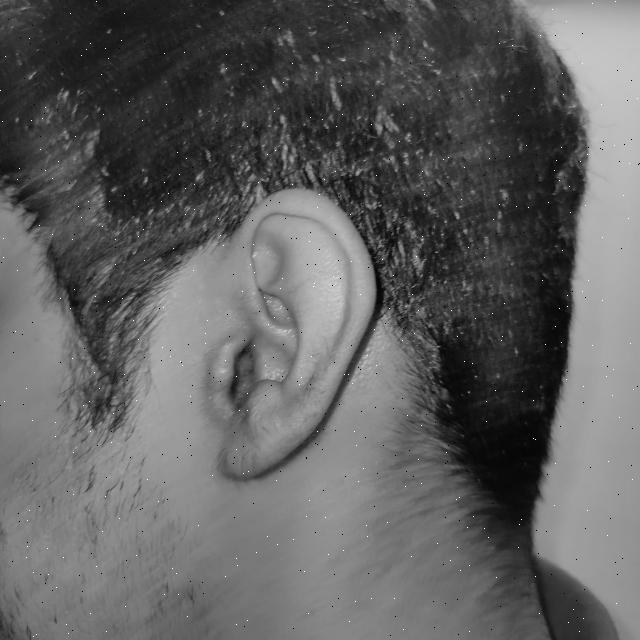ear: (220, 189, 376, 479), (223, 367, 228, 369), (226, 381, 228, 385)
